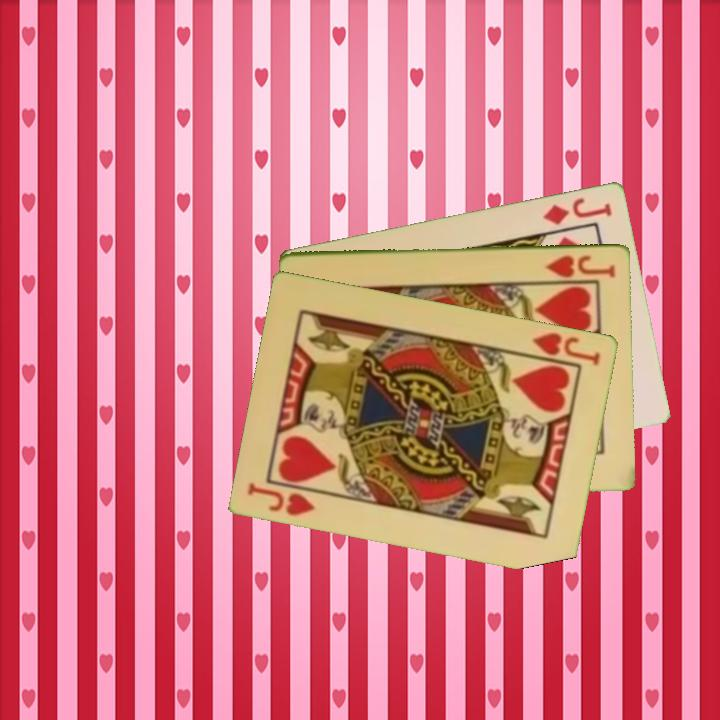Jd: (539, 194, 615, 228)
Jh: (521, 328, 604, 368), (244, 479, 320, 519), (542, 251, 619, 280)
